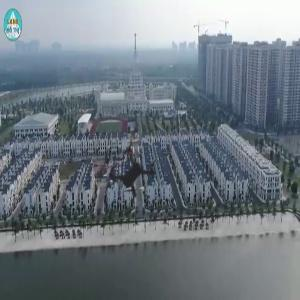drone: (80, 119, 192, 231)
